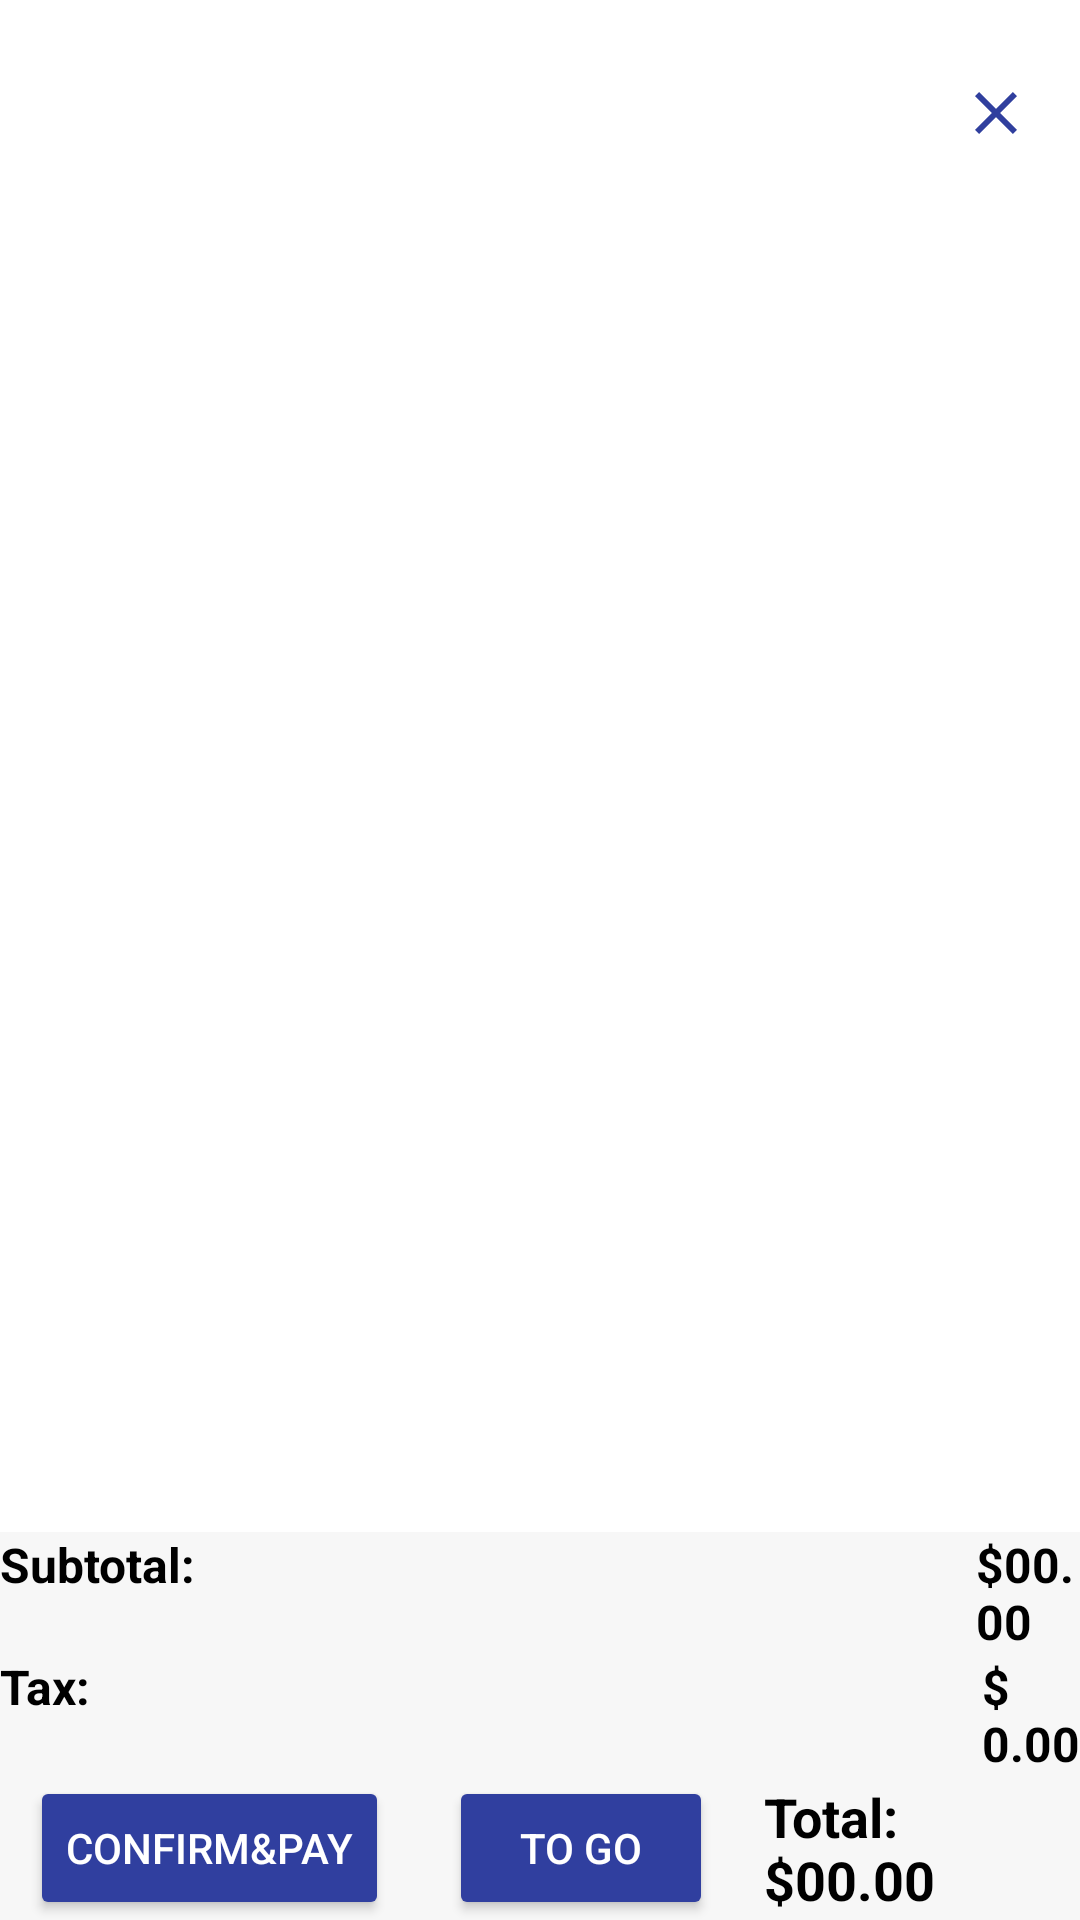

Named icons in this screenshot (1080 × 1920) and their centers, [x,y]:
Close: [996,113]
